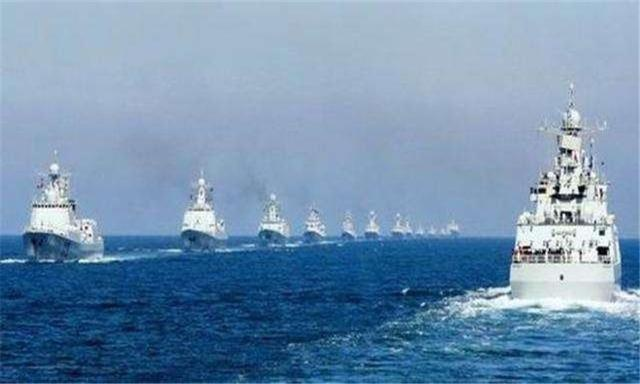warship: (497, 82, 638, 308), (20, 159, 112, 260), (175, 171, 230, 252), (251, 192, 292, 247), (301, 199, 332, 244), (338, 212, 361, 243), (363, 210, 383, 238), (390, 211, 409, 239), (444, 218, 465, 238)
